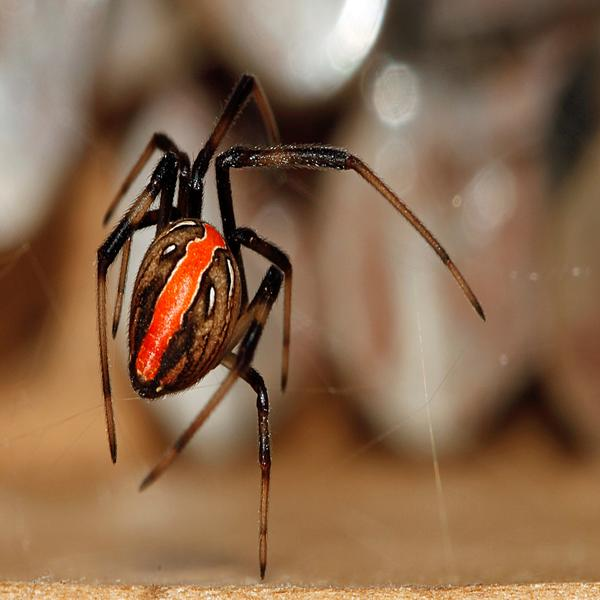Redback Spider: (91, 72, 480, 575)
